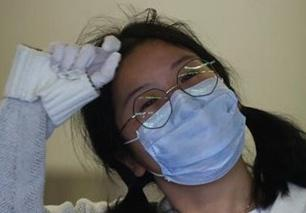OK: (124, 55, 247, 187)
